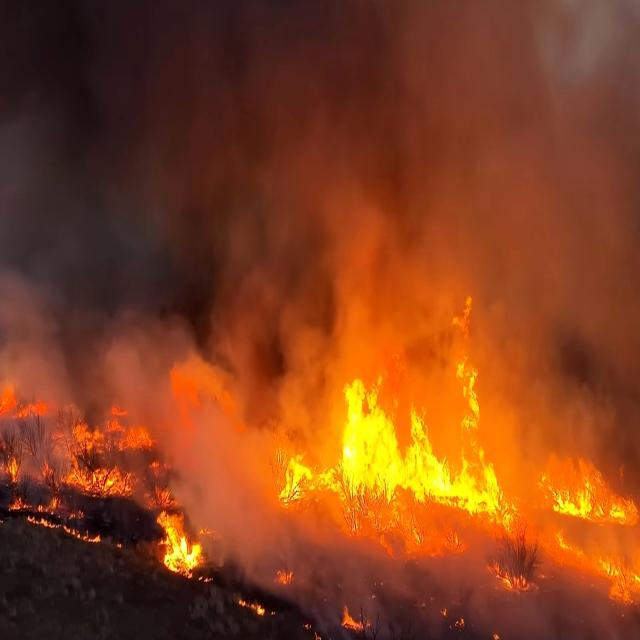fire: (322, 338, 514, 508)
smoke: (183, 0, 640, 339), (0, 0, 263, 329)
